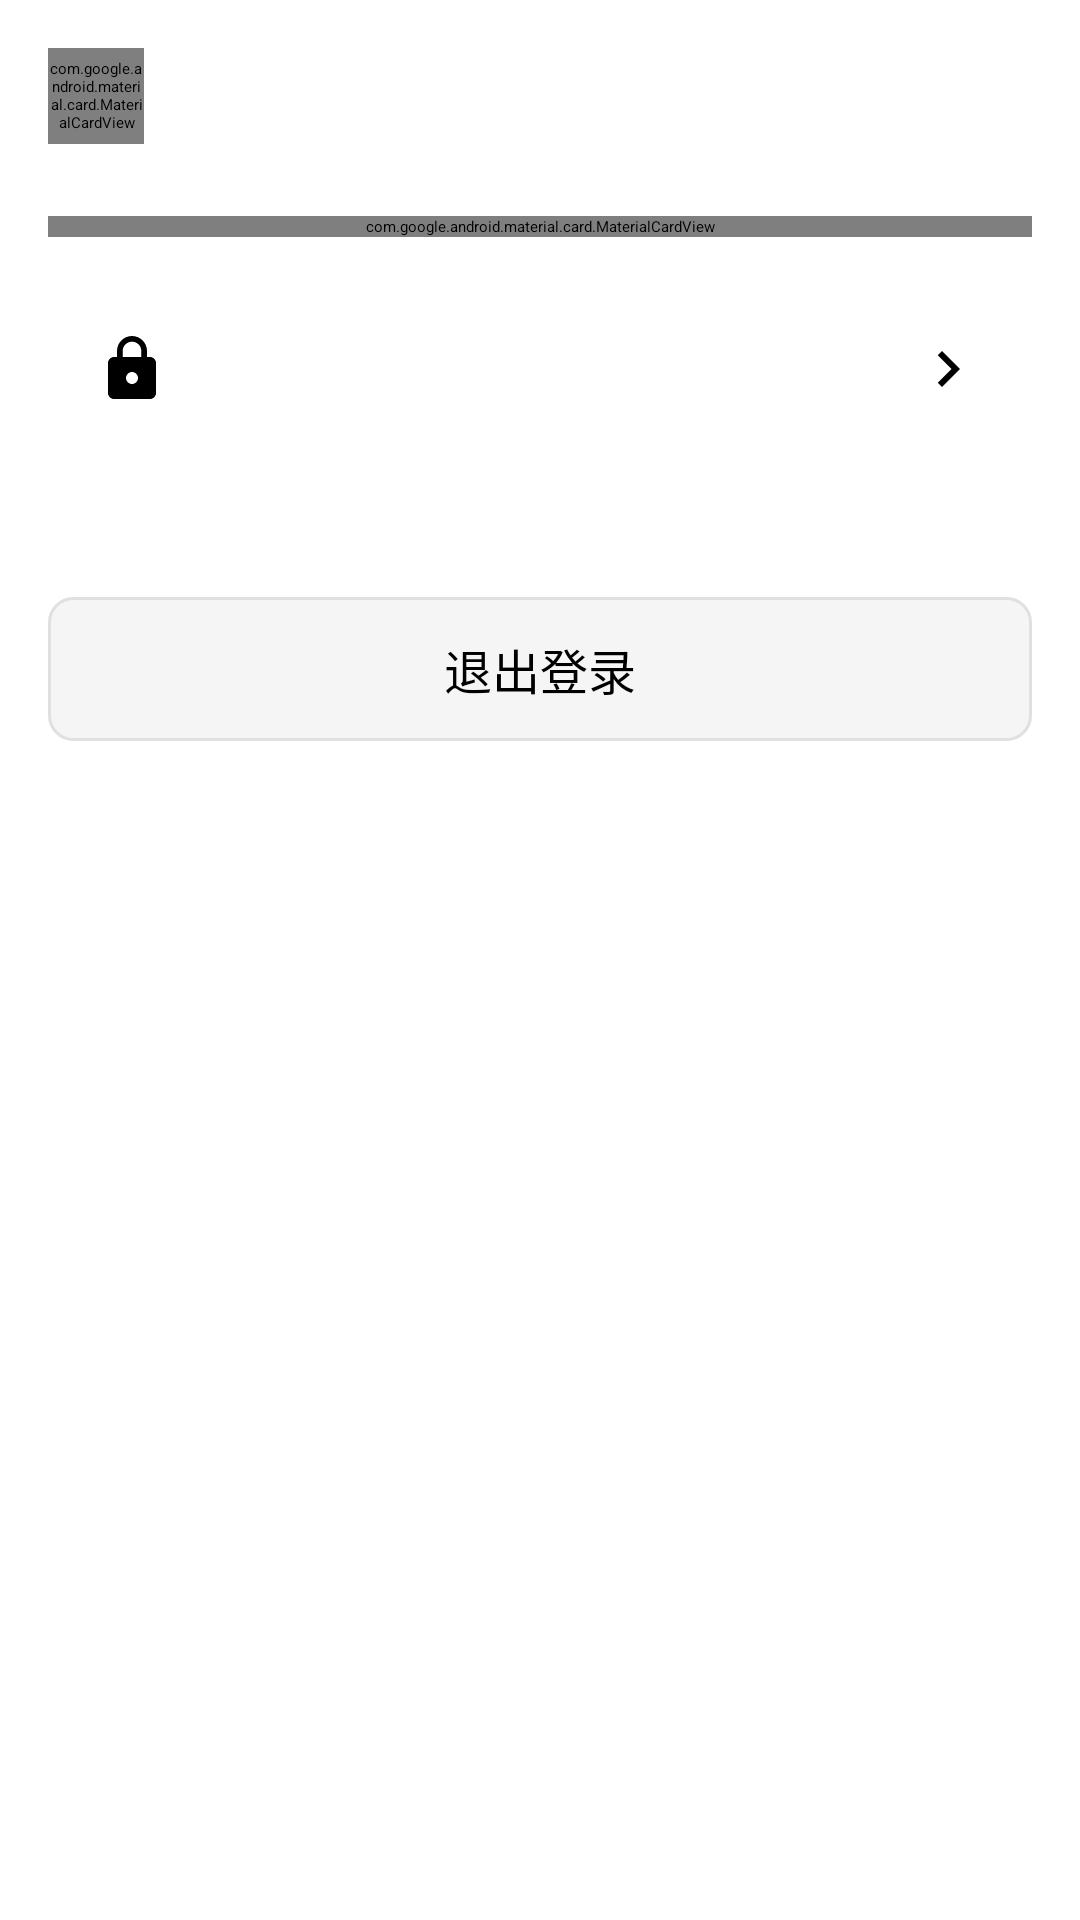

Screen size 1080px x 1920px. Icon name, then its center in pixels as point (x, y):
arrow right: point (949, 369)
lock: point (132, 367)
